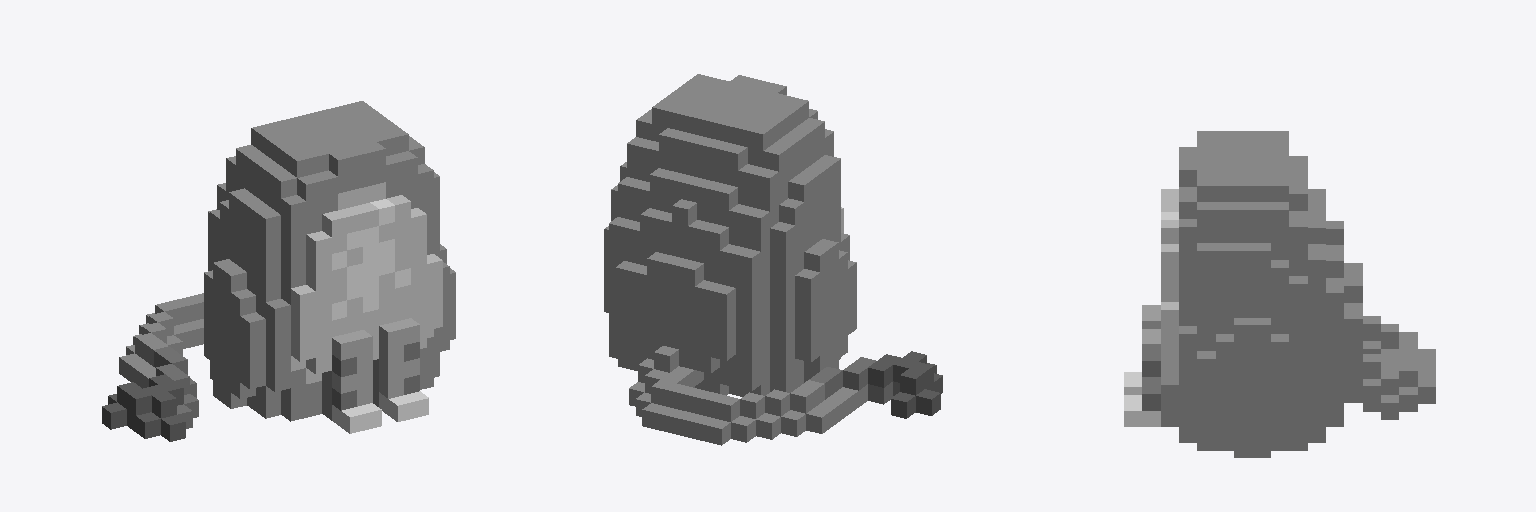
The picture shows the model from 3 angles: view 1: azimuth 30°, elevation 25°; view 2: azimuth 150°, elevation 25°; view 3: azimuth 270°, elevation 25°; orthographic projection.
Bounding box in the file's own units: 20 × 15 × 17.
Materials: 1 (1 with a texture image).